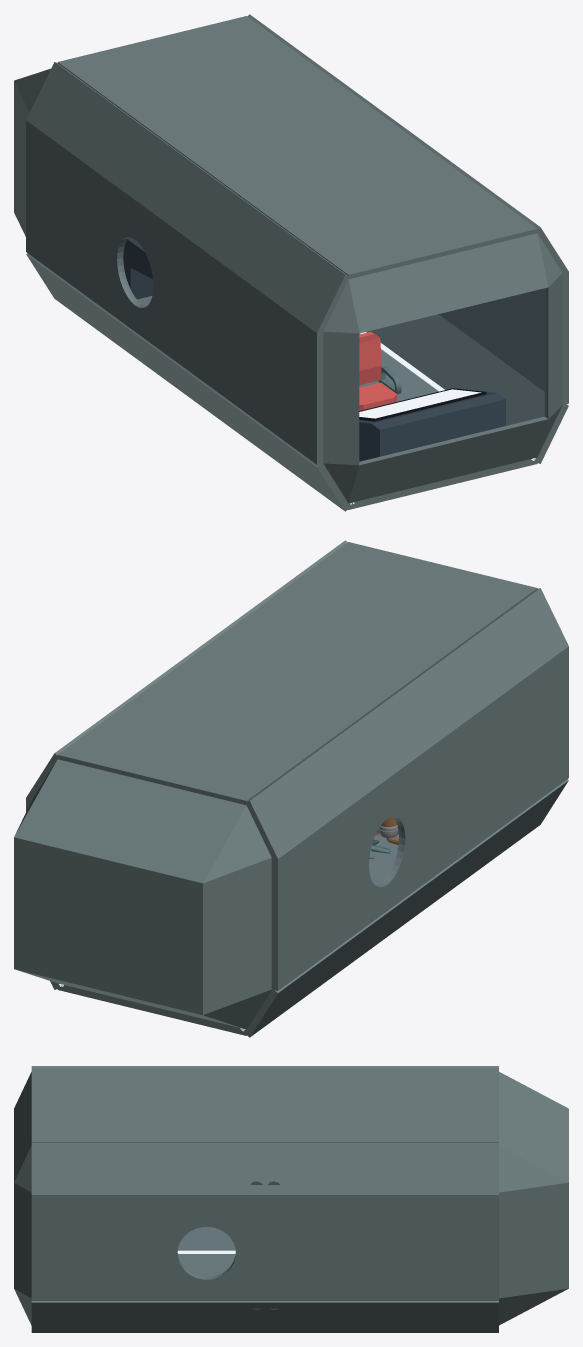
Rendered from submarine.fbx.
3 renders of one model, top to bottom at view 1: azimuth 30°, elevation 25°; view 2: azimuth 150°, elevation 25°; view 3: azimuth 270°, elevation 25°, orthographic. The views are drawn at different scales.
Parts seen in each view (by area): view 1: Ceiling, Hull Front, Wall Top 1, Wall Mid 1, Wall Mid 1.001, Wall Mid 1.003, Wall Mid 1 Window, Wall Lower 2, Wall Lower 1, Stand.001, Wall Mid 2, Floor (+6 smaller); view 2: Ceiling, Hull back, Wall Top 1, Wall Mid 1.003, Wall Mid 1.001, Wall Mid 1, Wall Mid 1 Window, Wall Lower 1, Floor, Wall Top 2; view 3: Ceiling, Wall Top 2, Hull back, Wall Lower 2, Wall Mid 2, Wall Mid 2.002, Wall Mid 2.003, Wall Mid 2 Window, Hull Front, Wall Lower 1, Floor, Wall Top 1.
Boxes of the visible parts, box(x1,y1,x2,y2) form: Ceiling: box(57, 16, 537, 278); Hull Front: box(323, 233, 562, 503); Wall Top 1: box(26, 62, 348, 334); Wall Mid 1: box(244, 280, 323, 464); Wall Mid 1.001: box(171, 227, 244, 411); Wall Mid 1.003: box(26, 120, 98, 304); Wall Mid 1 Window: box(99, 174, 171, 358); Wall Lower 2: box(366, 314, 568, 463); Wall Lower 1: box(26, 253, 349, 511); Stand.001: box(359, 388, 505, 461); Wall Mid 2: box(490, 272, 568, 404); Floor: box(137, 296, 537, 509); Ceiling: box(57, 542, 537, 804); Hull back: box(14, 759, 271, 1029); Wall Top 1: box(244, 588, 568, 858); Wall Mid 1.003: box(271, 806, 350, 990); Wall Mid 1.001: box(423, 700, 496, 883); Wall Mid 1: box(496, 646, 568, 830); Wall Mid 1 Window: box(350, 753, 423, 937); Wall Lower 1: box(244, 779, 568, 1037); Floor: box(57, 834, 398, 1035); Wall Top 2: box(26, 540, 347, 800); Ceiling: box(31, 1068, 498, 1142); Wall Top 2: box(31, 1142, 498, 1194); Hull back: box(499, 1072, 568, 1325); Wall Lower 2: box(31, 1301, 498, 1332); Wall Mid 2: box(31, 1195, 148, 1300); Wall Mid 2.002: box(265, 1195, 381, 1300); Wall Mid 2.003: box(382, 1195, 498, 1300); Wall Mid 2 Window: box(148, 1195, 265, 1300); Hull Front: box(14, 1072, 31, 1325); Wall Lower 1: box(178, 1227, 235, 1250); Floor: box(178, 1254, 235, 1277); Wall Top 1: box(31, 1066, 498, 1067).
Bounding box in the file's own units: 400 × 359 × 950.
